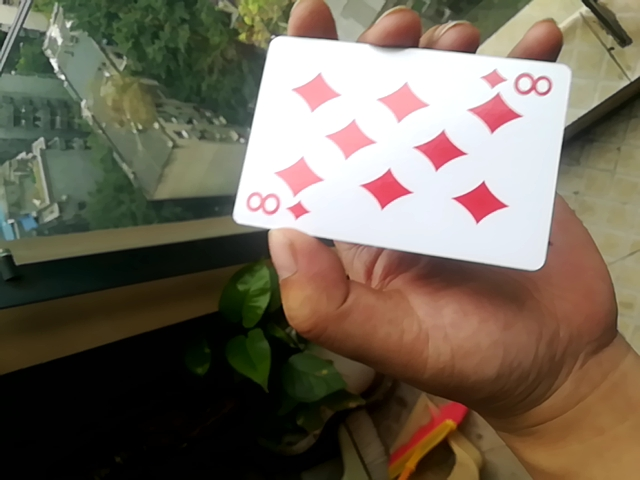fk 8: (232, 33, 580, 274)
